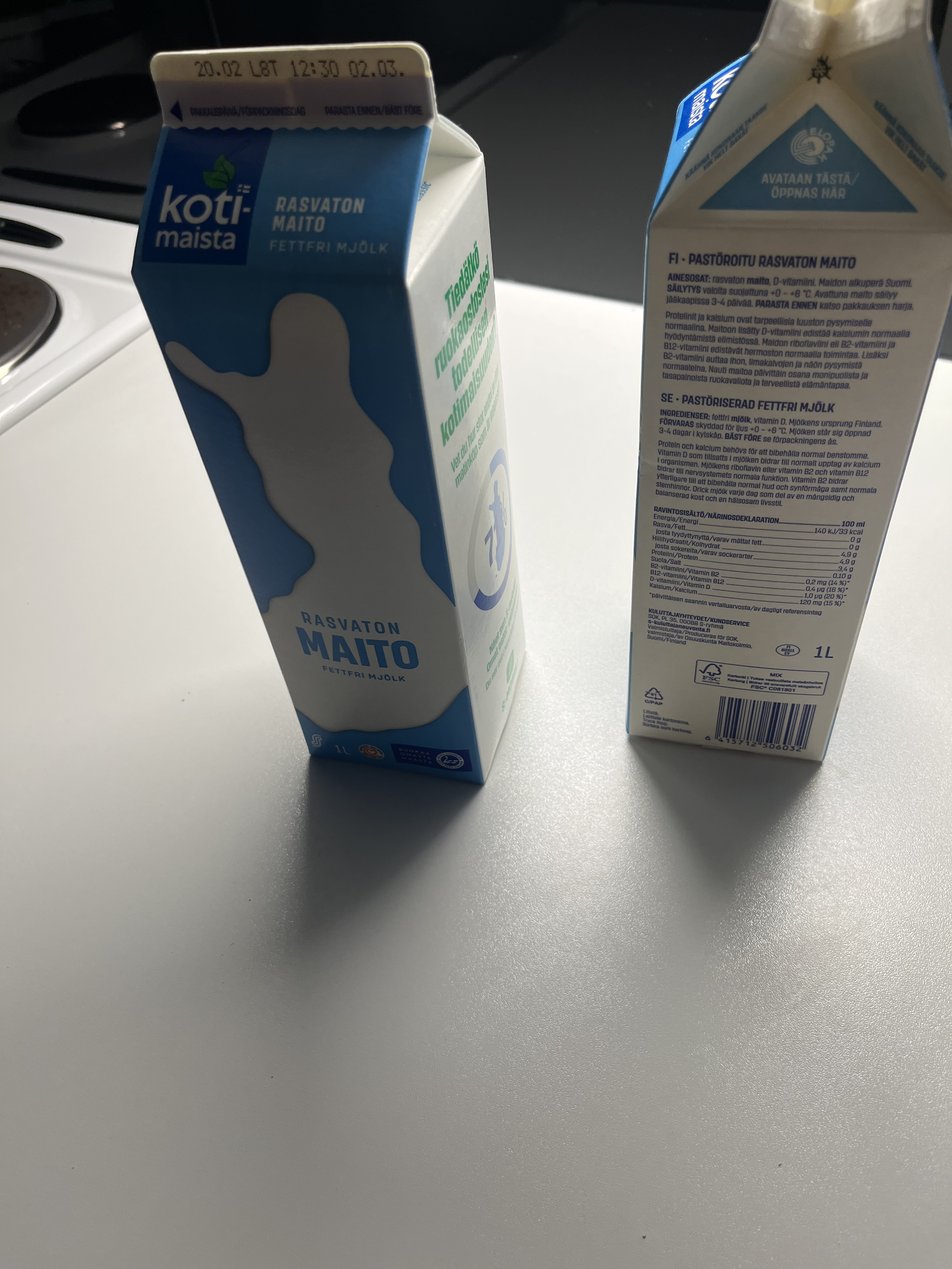Dryckeskartong: (134, 39, 528, 784), (622, 2, 952, 769)
